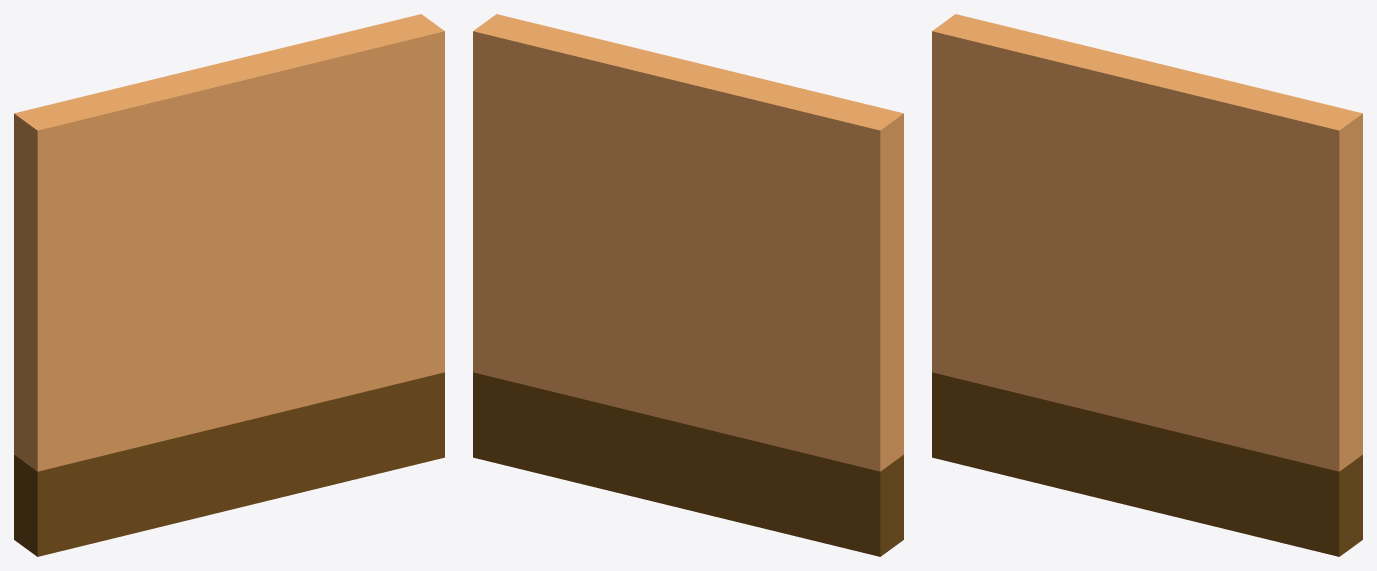
Rendered from wall.glb.
The picture shows the model from 3 angles, left to right: view 1: azimuth 30°, elevation 25°; view 2: azimuth 150°, elevation 25°; view 3: azimuth 330°, elevation 25°; orthographic projection.
Visible parts, largest first — view 1: block; view 2: block; view 3: block.
Boxes of the visible parts, x1,y1,x2,y2 form: block: (14, 14, 444, 556); block: (473, 14, 903, 556); block: (932, 14, 1362, 556).
Bounding box in the file's own units: 1 × 1 × 0.1.
